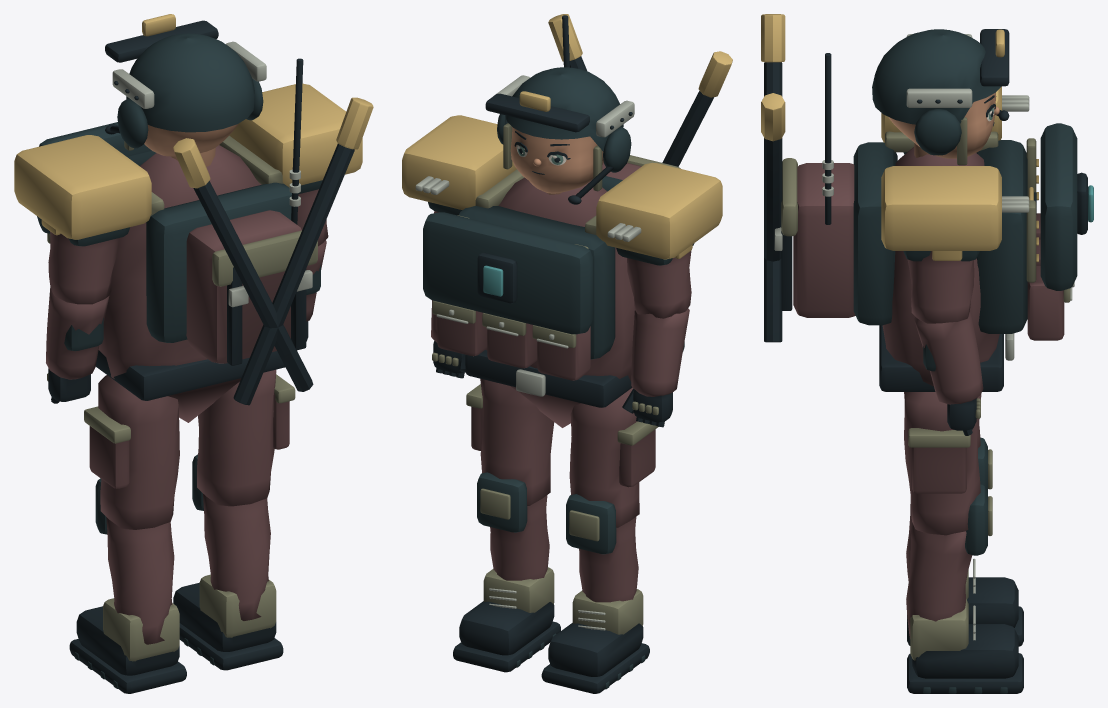
The model's file is kf-kobra.glb.
The picture shows the model from 3 angles, left to right: view 1: azimuth 30°, elevation 25°; view 2: azimuth 150°, elevation 25°; view 3: azimuth 270°, elevation 25°; orthographic projection. The views are drawn at different scales.
Parts seen in each view (by area): view 1: Torso Woven uniform, ArmorPlates Unit insignia, Head Ceramic armor, Leg_R Woven uniform, Actor Rubber and hair, Leg_L Woven uniform, Torso Ceramic armor, Torso Rubber and hair, Knee_L Woven uniform, Knee_R Woven uniform, Knee_R Rubber and hair, Knee_L Rubber and hair (+17 smaller); view 2: ArmorPlates Unit insignia, ArmorPlates Ceramic armor, Torso Woven uniform, Leg_R Woven uniform, Leg_L Woven uniform, Head Ceramic armor, Knee_R Rubber and hair, Knee_L Rubber and hair, Torso Ceramic armor, Elbow_R Woven uniform, Head Skin, Torso Rubber and hair (+20 smaller); view 3: Torso Woven uniform, Torso Ceramic armor, ArmorPlates Unit insignia, Head Ceramic armor, Leg_L Woven uniform, ArmorPlates Ceramic armor, Knee_L Rubber and hair, Knee_L Woven uniform, Torso Rubber and hair, Actor Rubber and hair, Elbow_L Woven uniform, Arm_L Woven uniform (+13 smaller).
Part boxes in pixels (box(x1,y1,x2,y2)): Torso Woven uniform: box(98, 145, 301, 422); ArmorPlates Unit insignia: box(14, 83, 362, 239); Head Ceramic armor: box(117, 33, 263, 148); Leg_R Woven uniform: box(89, 375, 179, 529); Actor Rubber and hair: box(193, 144, 354, 405); Leg_L Woven uniform: box(197, 369, 289, 506); Torso Ceramic armor: box(126, 150, 291, 342); Torso Rubber and hair: box(95, 58, 306, 400); Knee_L Woven uniform: box(203, 494, 270, 620); Knee_R Woven uniform: box(106, 517, 174, 644); Knee_R Rubber and hair: box(69, 606, 186, 693); Knee_L Rubber and hair: box(173, 582, 283, 670); ArmorPlates Unit insignia: box(402, 115, 722, 259); ArmorPlates Ceramic armor: box(423, 212, 592, 334); Torso Woven uniform: box(437, 162, 641, 427); Leg_R Woven uniform: box(569, 387, 655, 527); Leg_L Woven uniform: box(471, 378, 554, 505); Head Ceramic armor: box(497, 67, 631, 172); Knee_R Rubber and hair: box(541, 623, 649, 693); Knee_L Rubber and hair: box(453, 601, 560, 672); Torso Ceramic armor: box(459, 176, 622, 359); Elbow_R Woven uniform: box(631, 308, 689, 396); Head Skin: box(510, 127, 603, 193); Torso Rubber and hair: box(465, 15, 632, 407); Torso Woven uniform: box(793, 147, 1064, 386); Torso Ceramic armor: box(853, 140, 1027, 333); ArmorPlates Unit insignia: box(881, 86, 1001, 250); Head Ceramic armor: box(872, 29, 1001, 155); Leg_L Woven uniform: box(904, 392, 981, 535); ArmorPlates Ceramic armor: box(1040, 123, 1077, 290); Knee_L Rubber and hair: box(907, 624, 1023, 693); Knee_L Woven uniform: box(906, 524, 972, 638); Torso Rubber and hair: box(781, 53, 1036, 391); Actor Rubber and hair: box(764, 62, 782, 342); Elbow_L Woven uniform: box(914, 310, 983, 404); Arm_L Woven uniform: box(907, 251, 974, 323).
Size of the model in its own units: 0.93 by 1.9 by 0.9085.
